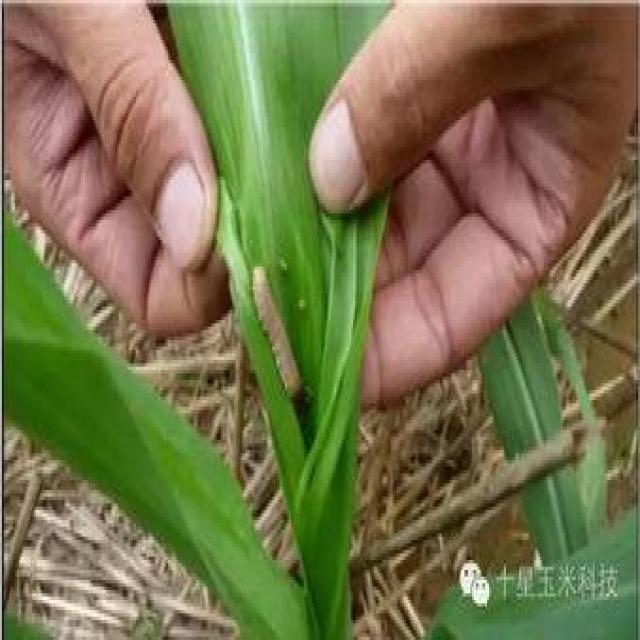BeetArmyWorm-Larva-: (239, 248, 307, 412)
